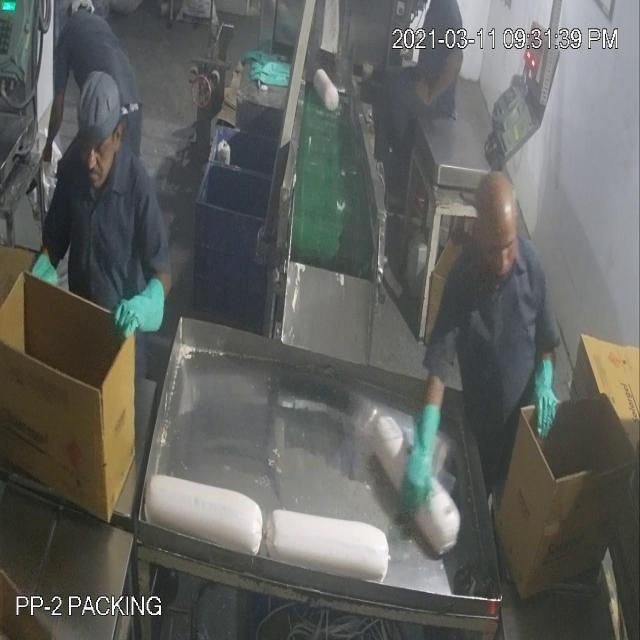No_Gloves: (38, 65, 544, 468)
